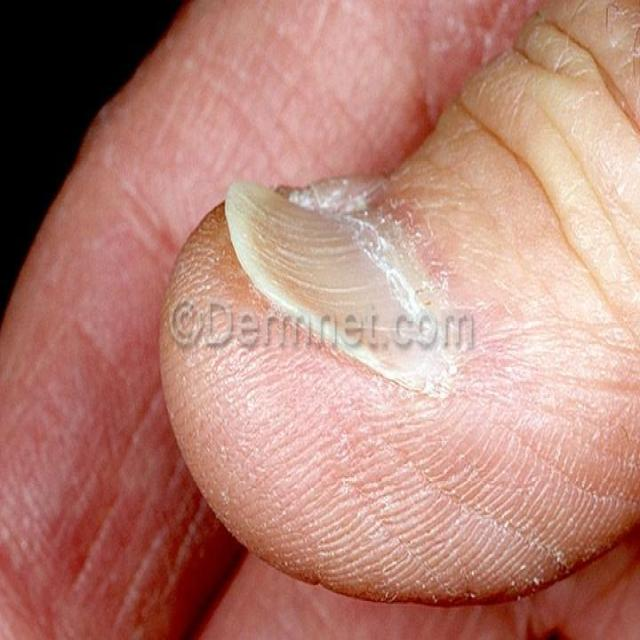Nail: (228, 182, 445, 379)
